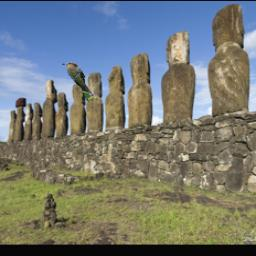Cuckoo: (61, 62, 94, 102)
